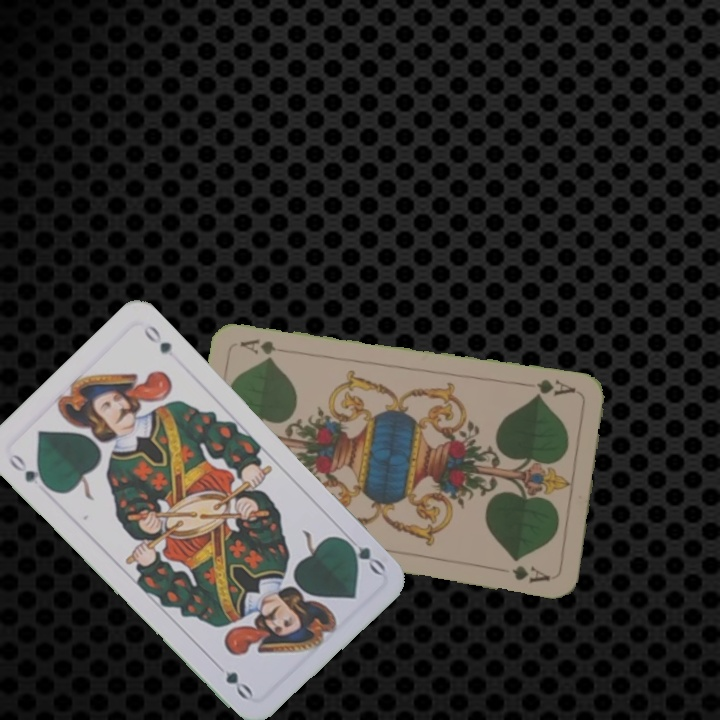GA: (530, 375, 579, 401)
GO: (337, 529, 388, 578), (4, 449, 53, 492)
